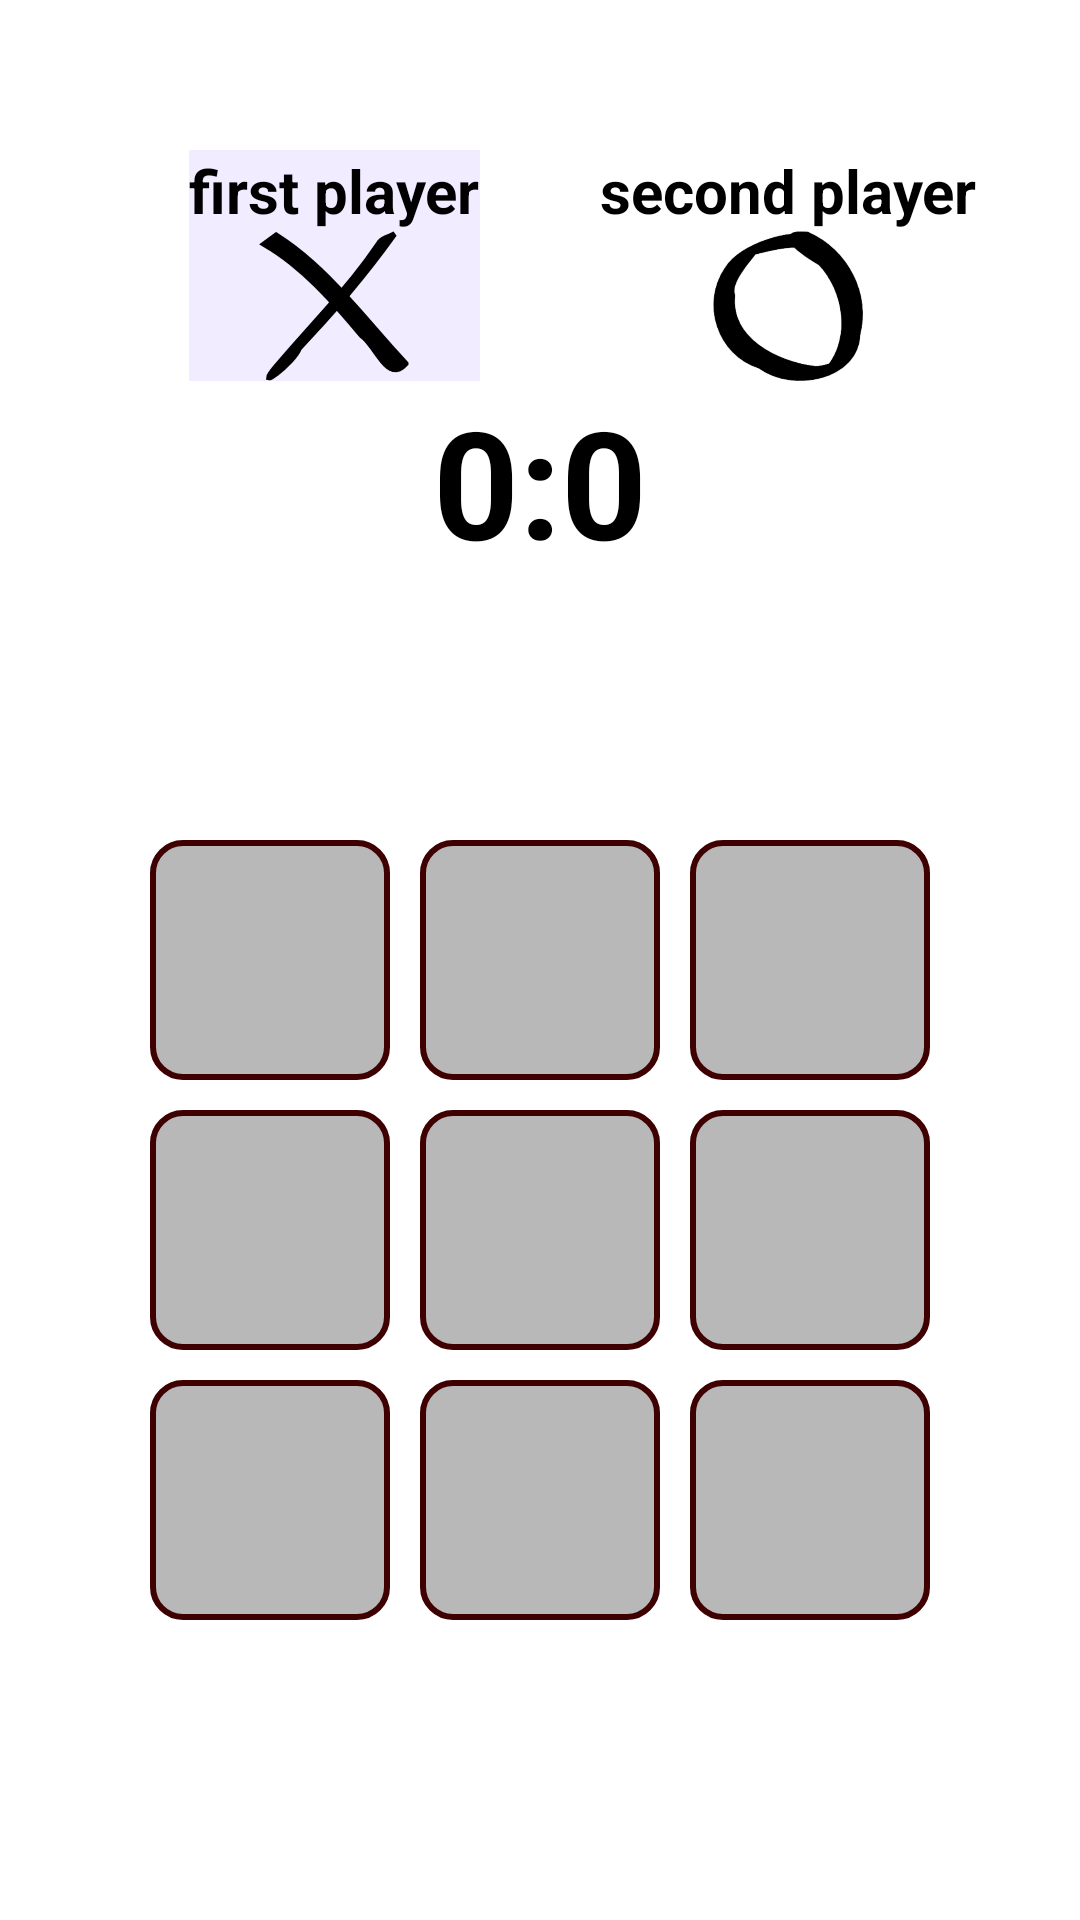

Icons on this 1080w x 1920h Android screen, each with its box as (x1, y1, x2, y2):
otic: (713, 231, 863, 381)
xtic: (259, 231, 409, 381)
